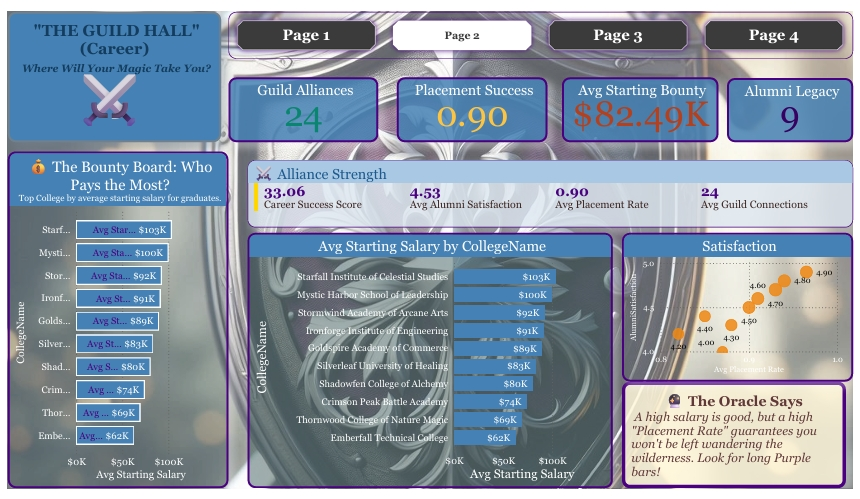

Layout of this report page (visuals, bound fields, positions):
{"tool":"powerbi","page":{"name":"Page 2","canvas":[1280,720],"ordinal":1},"visuals":[{"type":"card","title":"Avg Starting Bounty","fields":{"Values":["College_Profiles.Avg Starting Salary"]},"box":[838.6,98.6,237.1,98.6],"z":0},{"type":"card","title":"Placement Success","fields":{"Values":["College_Profiles.Avg Placement Rate"]},"box":[588.6,98.6,228.6,98.6],"z":1000},{"type":"card","title":"Guild Alliances","fields":{"Values":["College_Profiles.Avg Guild Connections"]},"box":[334.3,98.6,227.1,98.6],"z":2000},{"type":"clusteredBarChart","title":"💰 The Bounty Board: Who Pays the Most?","fields":{"Category":["College_Profiles.CollegeName"],"Y":["College_Profiles.Avg Starting Salary"]},"box":[0,211.4,334.3,508.6],"z":3000},{"type":"multiRowCard","title":"⚔️ Alliance Strength","fields":{"Values":["College_Profiles.Career Success Score","College_Profiles.Avg Alumni Satisfaction","College_Profiles.Avg Placement Rate","College_Profiles.Avg Guild Connections"]},"box":[362.9,224.3,917.1,101.4],"z":4000},{"type":"clusteredBarChart","fields":{"Y":["College_Profiles.Avg Starting Salary"],"Category":["College_Profiles.CollegeName"]},"box":[362.9,334.3,552.9,385.7],"z":5000},{"type":"textbox","box":[0,0,322.9,197.1],"z":6000},{"type":"textbox","box":[930,558.6,338.6,161.4],"z":7000},{"type":"card","title":"Alumni Legacy","fields":{"Values":["College_Profiles.\"Elite Career Schools\""]},"box":[1088.6,100,191.4,97.1],"z":8000},{"type":"scatterChart","title":"Satisfaction","fields":{"X":["College_Profiles.Avg Placement Rate"],"Y":["College_Profiles.AlumniSatisfaction"],"Size":["College_Profiles.Avg Starting Salary"]},"box":[930,334.3,350,224.3],"z":9000},{"type":"pageNavigator","box":[334.3,0,945.7,71.4],"z":10000},{"type":"textbox","box":[0,71.4,311.4,125.7],"z":11000}]}

Visuals, with their boxes in screenshot pixels (x1, y1, x2, y2):
"Avg Starting Bounty" card: select_region(560, 74, 717, 140)
"Placement Success" card: select_region(394, 74, 546, 140)
"Guild Alliances" card: select_region(226, 74, 376, 140)
"💰 The Bounty Board: Who Pays the Most?" clusteredBarChart: select_region(4, 149, 226, 486)
"⚔️ Alliance Strength" multiRowCard: select_region(245, 158, 853, 225)
clusteredBarChart - College_Profiles.Avg Starting Salary x College_Profiles.CollegeName: select_region(245, 230, 611, 486)
textbox: select_region(4, 9, 218, 140)
textbox: select_region(621, 379, 845, 486)
"Alumni Legacy" card: select_region(726, 75, 853, 140)
"Satisfaction" scatterChart: select_region(621, 230, 853, 379)
pageNavigator: select_region(226, 9, 853, 56)
textbox: select_region(4, 56, 211, 140)
